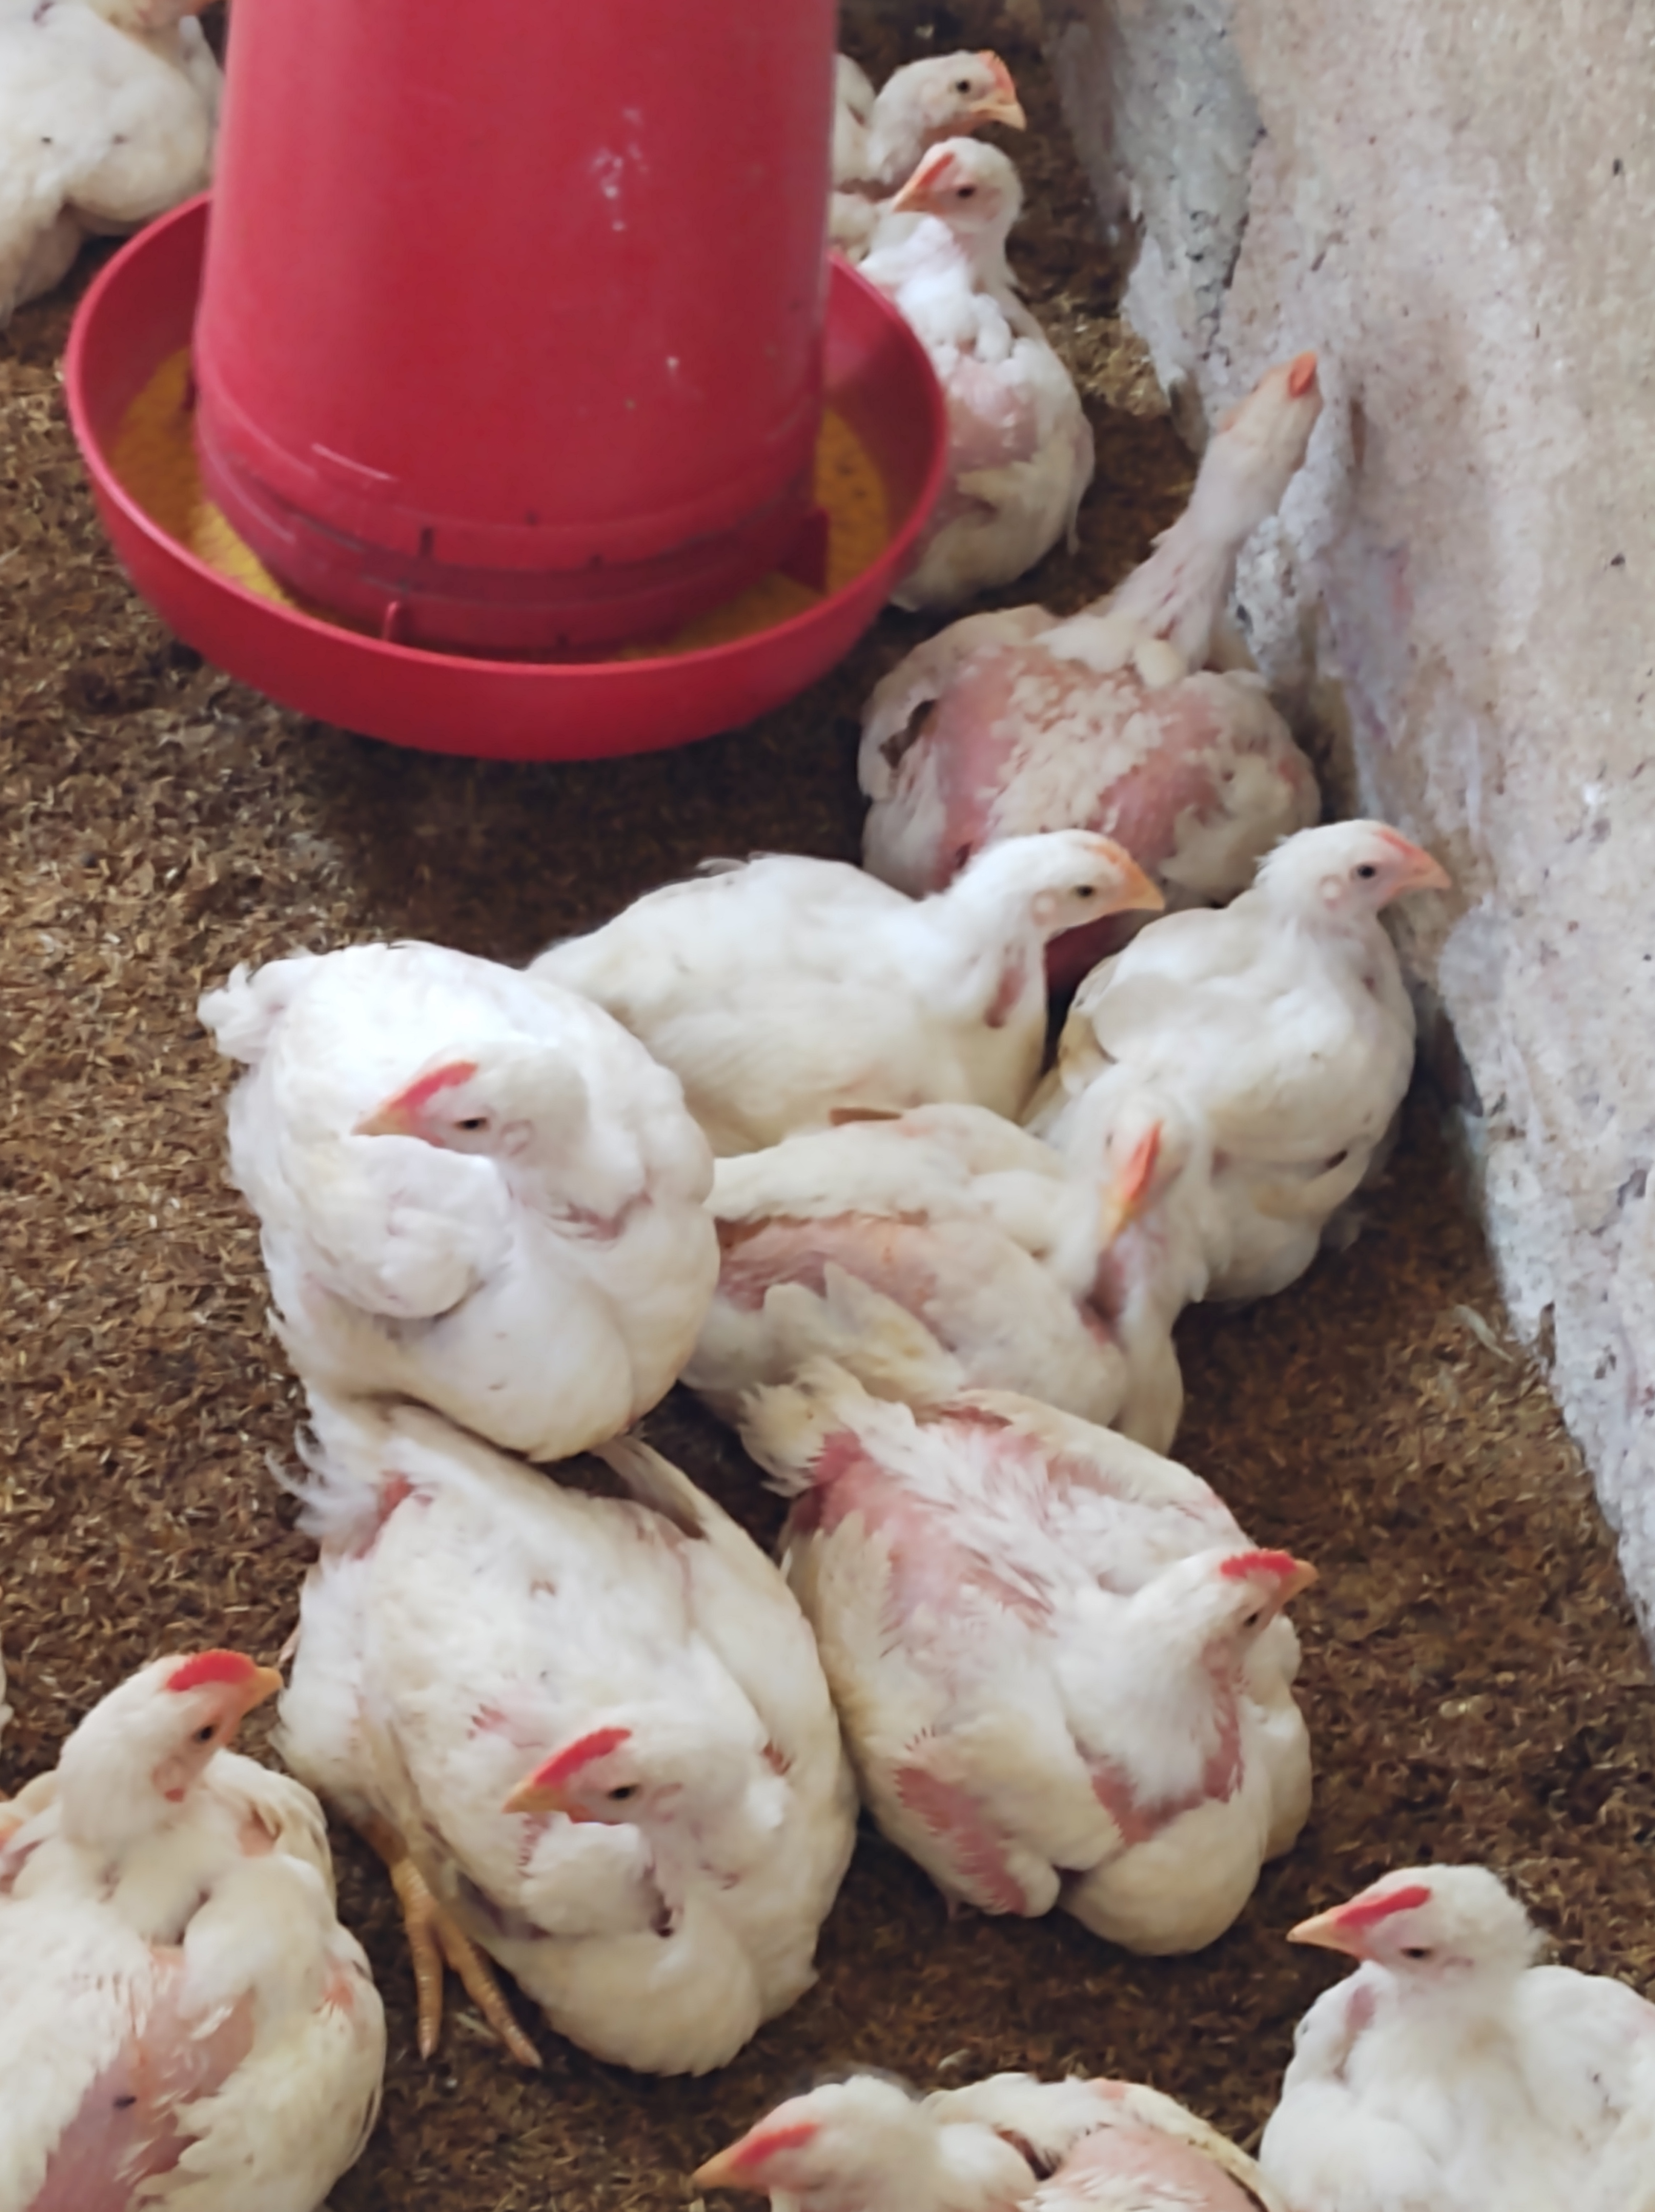Pollos: (323, 1426, 861, 2071), (794, 1339, 1337, 1927), (104, 922, 725, 1431), (12, 1621, 424, 2212), (852, 344, 1347, 791), (701, 1076, 1253, 1450), (1201, 1781, 1655, 2212), (494, 796, 1153, 1076), (673, 2017, 1245, 2212), (1147, 816, 1511, 1120), (0, 0, 280, 320), (841, 122, 1095, 466), (827, 19, 1041, 127)
